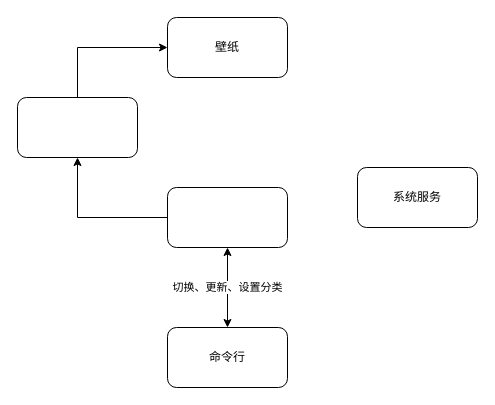
The diagram is 495 pixels wide and 405 high, and some of its shapes have lost their labels. Each missing label, with the centre of its shape:
"unsplash" goes at point 77,127.
"图片下载器" goes at point 227,217.
